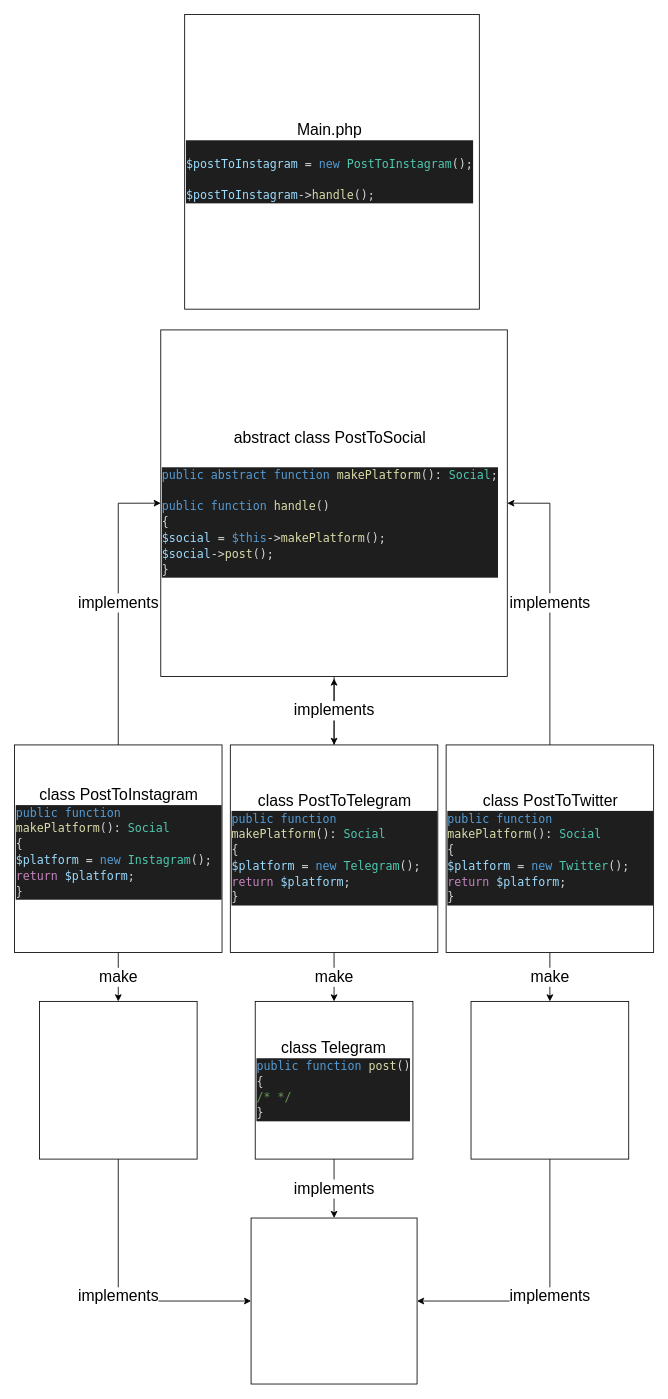
Some shapes in this 668 by 1399 pixel diagram are drawn without their labels. The centre of each missing label's shape, as x and y in pixels:
"class Instagram public function post () { /* */ }" belongs at (118,1080).
"class Twitter public function post () { /* */ }" belongs at (549,1080).
"interface Social public function post ();" belongs at (333,1300).
